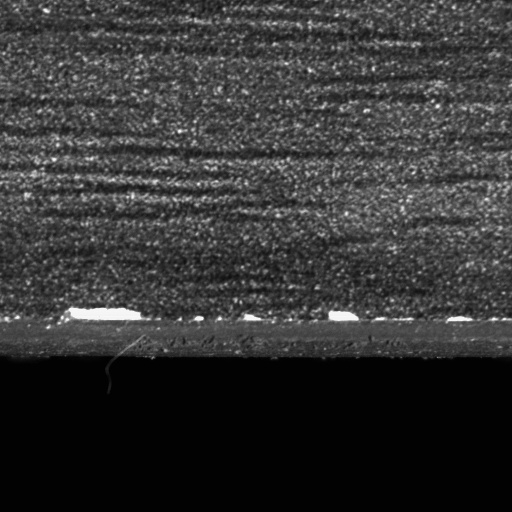huashang: (67, 306, 142, 322), (328, 309, 362, 323), (239, 312, 263, 322)
